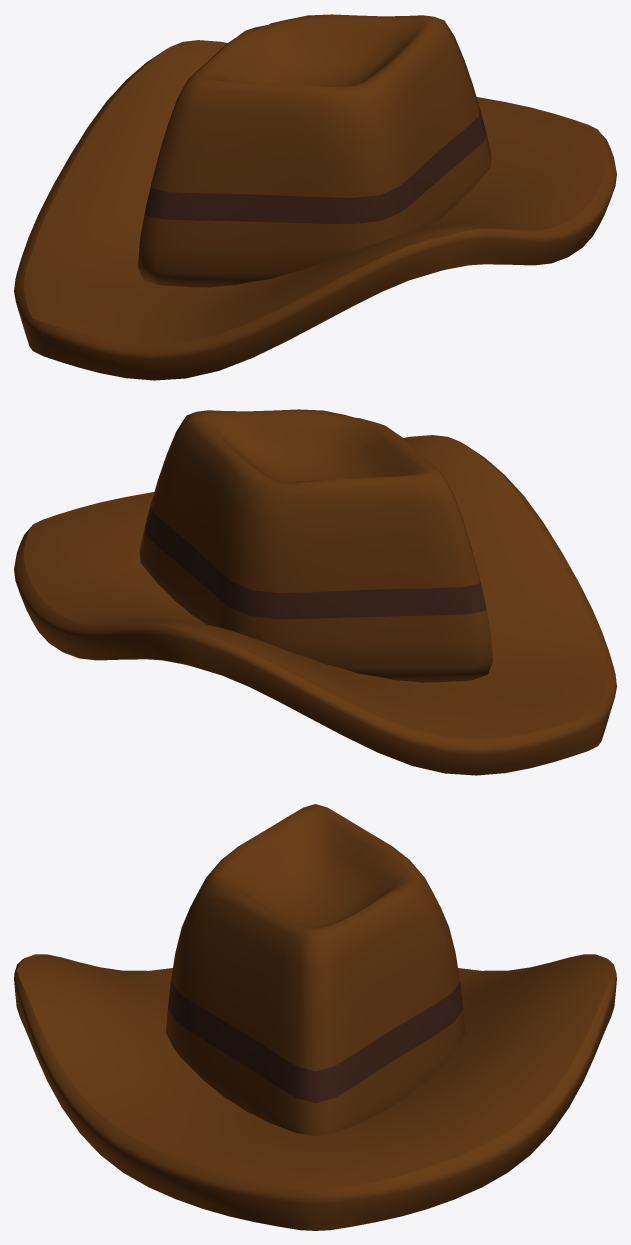
The model's file is cowboy_hat.fbx.
The picture shows the model from 3 angles, top to bottom: view 1: azimuth 30°, elevation 25°; view 2: azimuth 150°, elevation 25°; view 3: azimuth 270°, elevation 25°; orthographic projection. The views are drawn at different scales.
Parts seen in each view (by area): view 1: hat; view 2: hat; view 3: hat.
Boxes of the visible parts, x1,y1,x2,y2 form: hat: [14, 14, 616, 380]; hat: [14, 409, 616, 775]; hat: [14, 804, 616, 1230].
Size of the model in its own units: 233 by 93.93 by 190.
